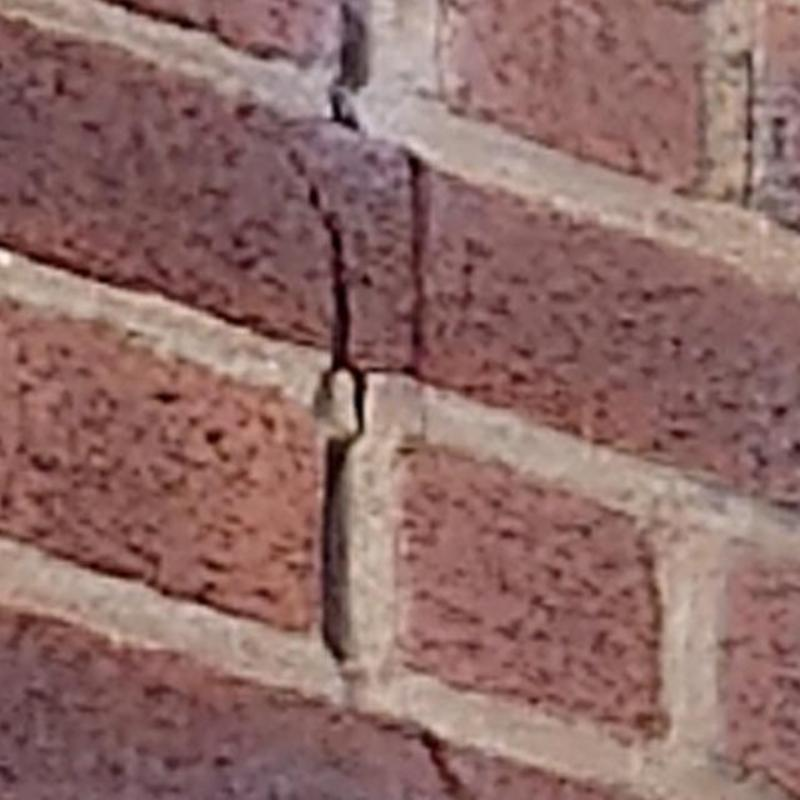pothole: (309, 186, 366, 655), (360, 153, 431, 376), (342, 708, 473, 799), (331, 0, 369, 127)
